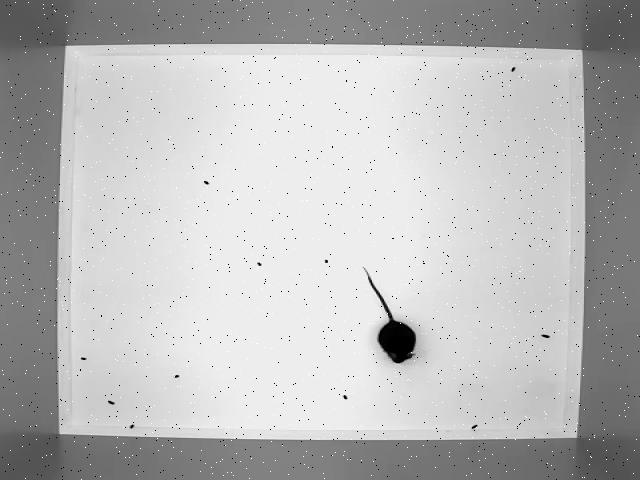Tikus: (358, 261, 422, 368)
